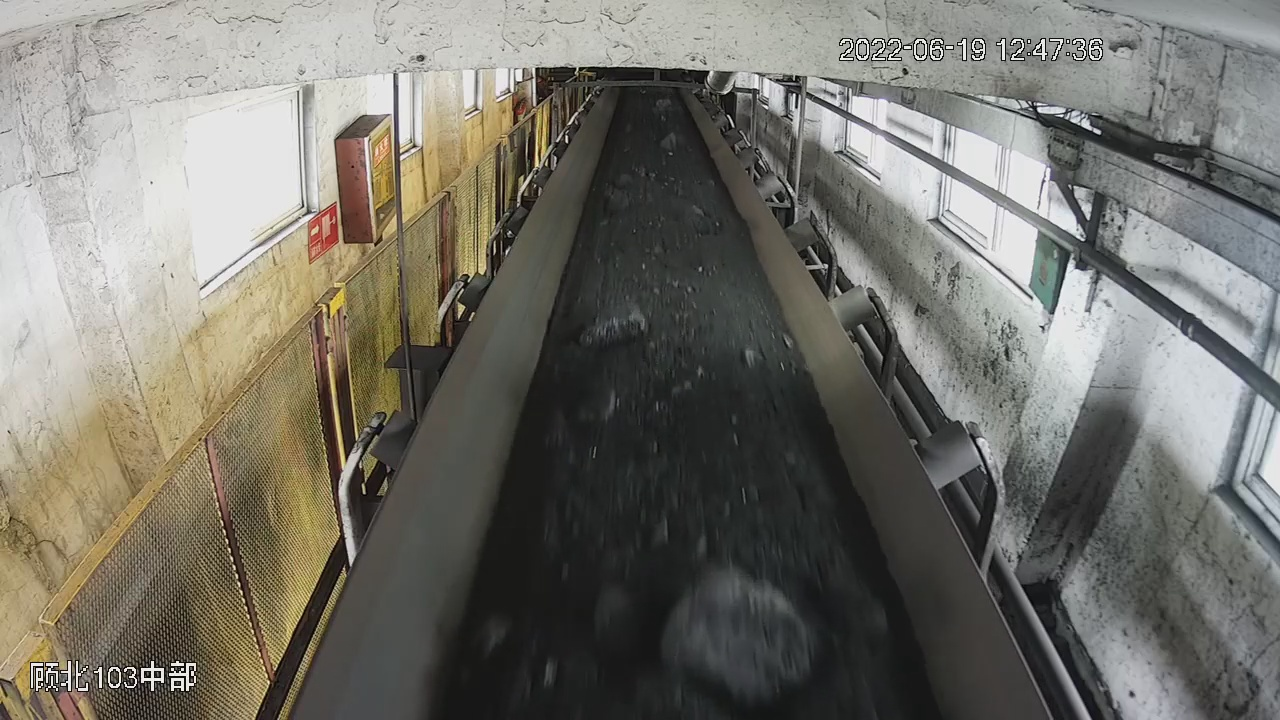gangue: (667, 566, 815, 713), (577, 305, 647, 351), (593, 580, 627, 627), (659, 131, 675, 150), (656, 95, 673, 112)
